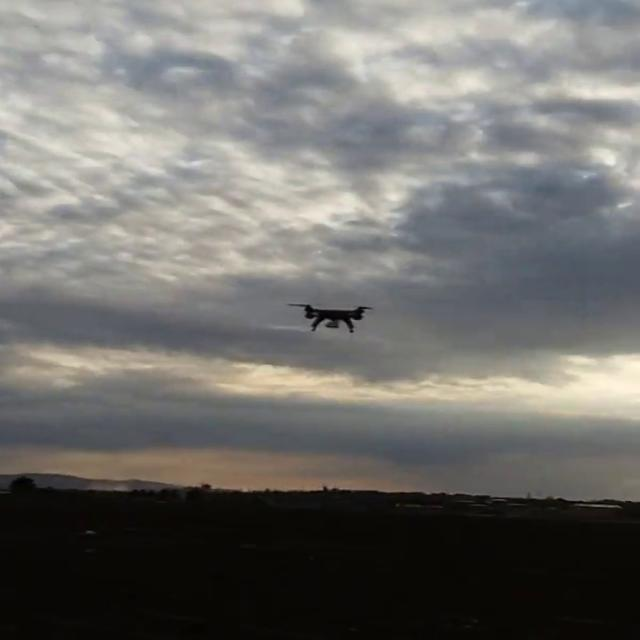drone: (283, 298, 374, 335)
